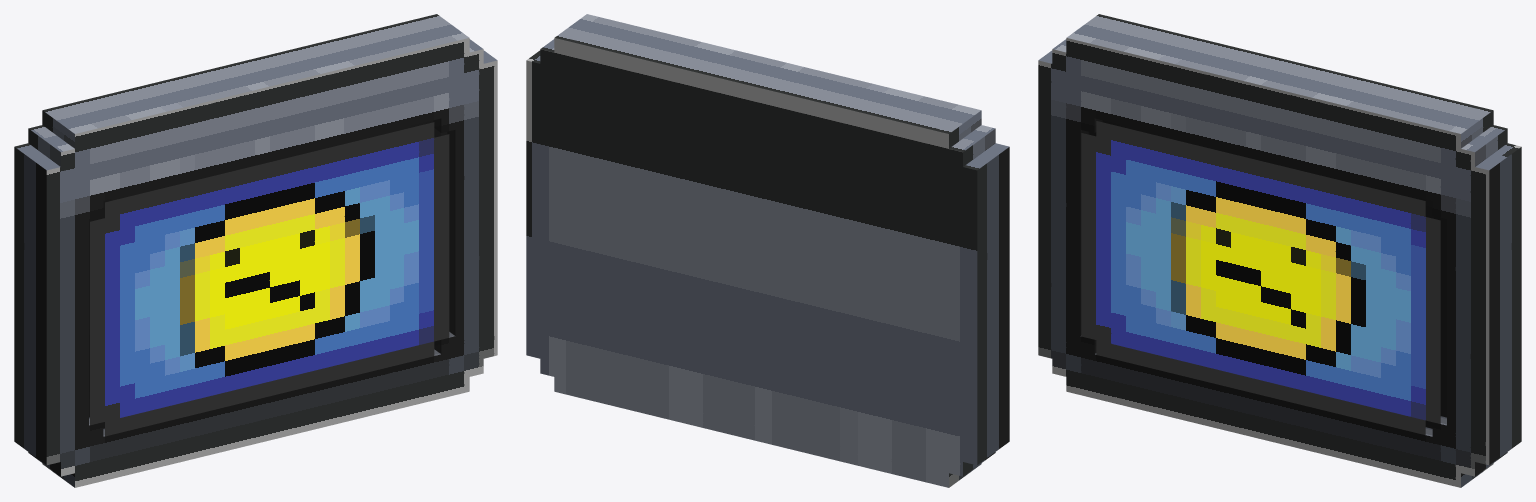
The model's file is status_display_ai_unsure.glb.
The picture shows the model from 3 angles, left to right: view 1: azimuth 30°, elevation 25°; view 2: azimuth 150°, elevation 25°; view 3: azimuth 330°, elevation 25°; orthographic projection.
Visible parts, largest first — view 1: Continuous_Frame, Picture_Overlay, Recessed_Glass; view 2: Continuous_Frame; view 3: Continuous_Frame, Picture_Overlay, Recessed_Glass.
Part boxes in pixels (bbox=[...]): Continuous_Frame: bbox=[14, 14, 497, 487]; Picture_Overlay: bbox=[90, 122, 449, 436]; Recessed_Glass: bbox=[89, 119, 454, 436]; Continuous_Frame: bbox=[526, 14, 1009, 487]; Continuous_Frame: bbox=[1038, 14, 1521, 487]; Picture_Overlay: bbox=[1081, 121, 1440, 434]; Recessed_Glass: bbox=[1081, 119, 1446, 435].
Bounding box in the file's own units: 0.9 × 0.675 × 0.1129.
3 materials, 3 textured.
